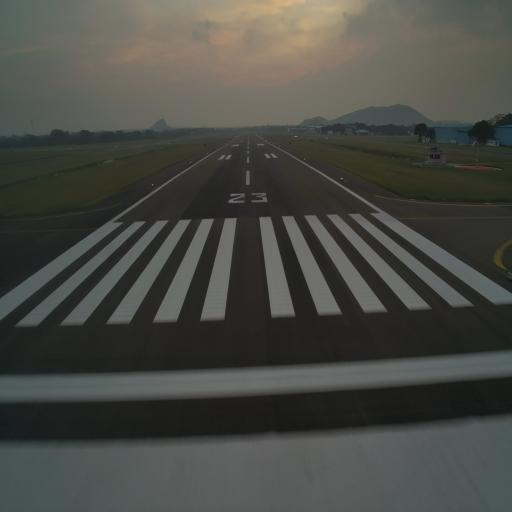on: (506, 266, 512, 283)
